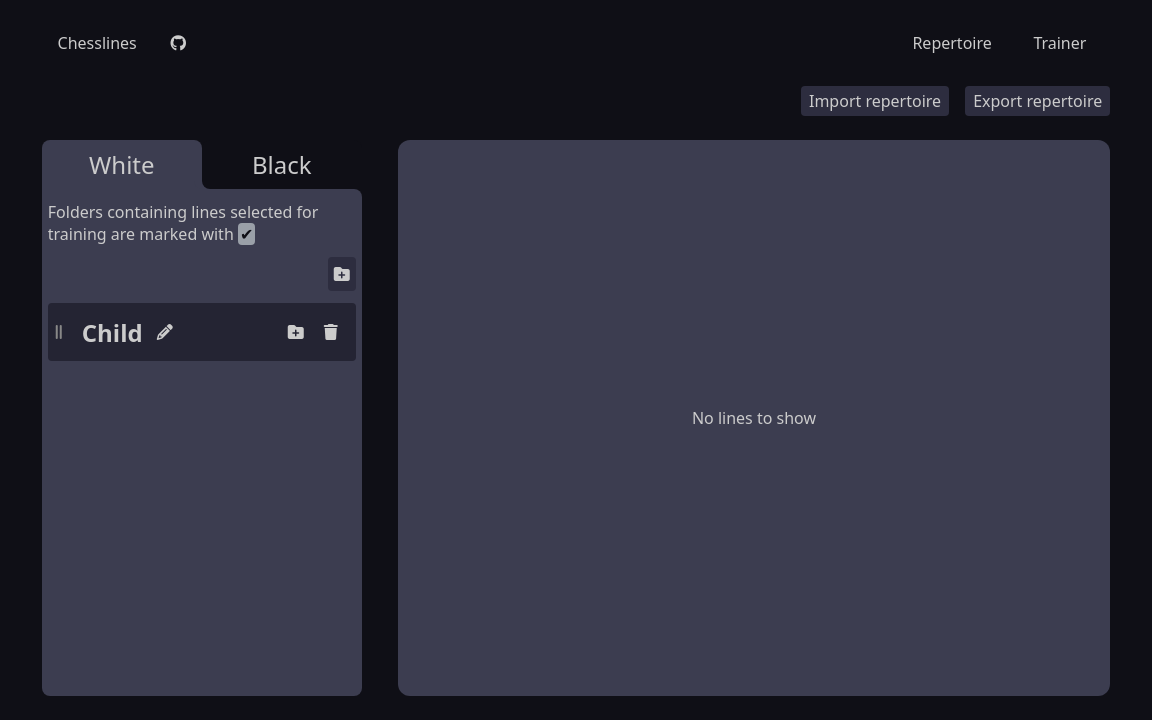
it: Renaming folder › Shows rename form when edit button clicked
This screenshot has width=1152, height=720.
What coordinates should you click on to do the following:
click the button named "rename folder"
I would click on:
 (165, 332)
Its box is [151,315,179,349].
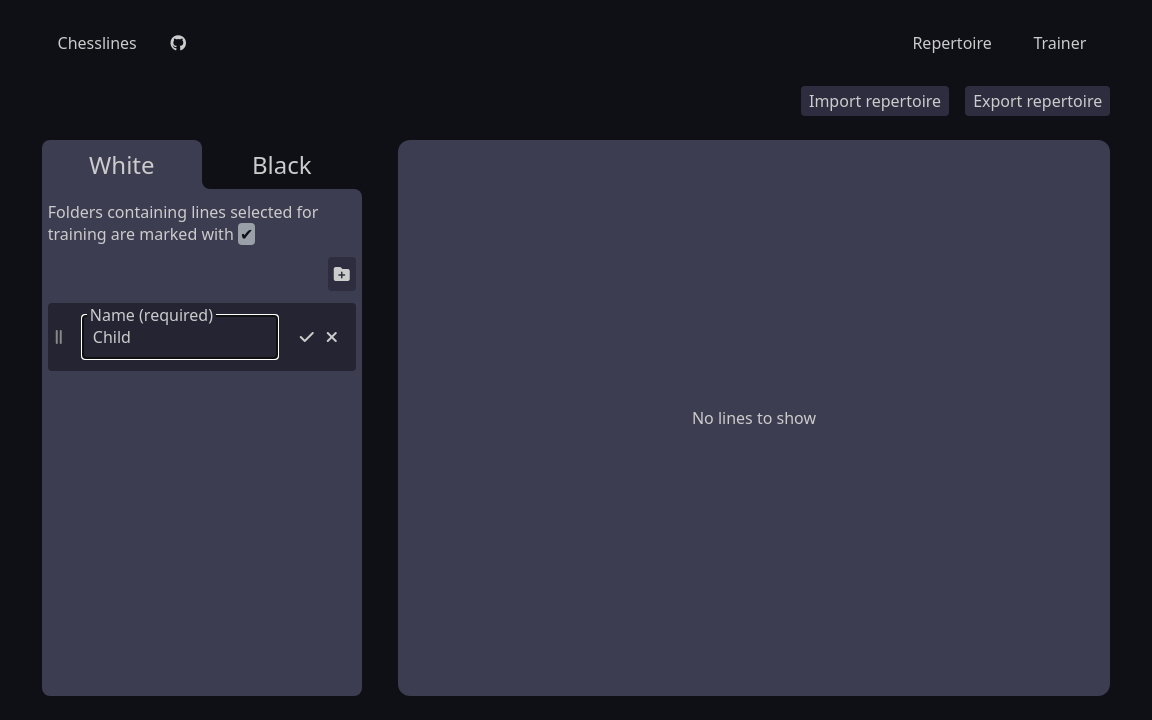
Expected: the form named "rename folder" is shown, [82,315,344,359]
